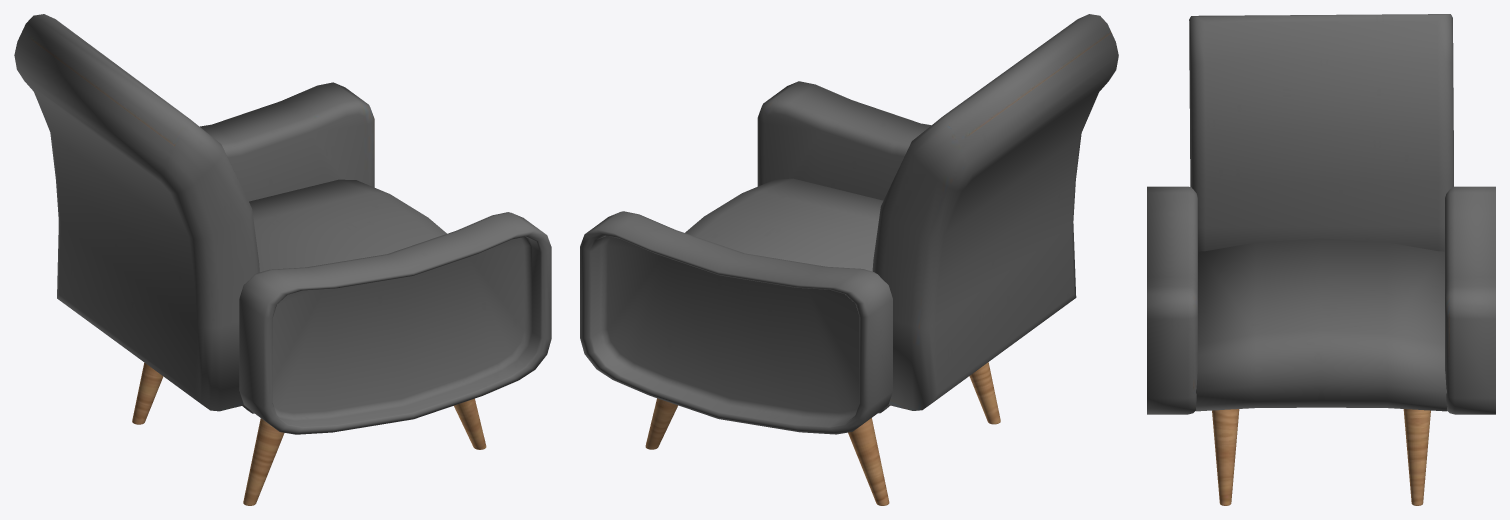
3 renders of one model, left to right at view 1: azimuth 30°, elevation 25°; view 2: azimuth 150°, elevation 25°; view 3: azimuth 270°, elevation 25°, orthographic. The views are drawn at different scales.
Visible parts, largest first — view 1: Chair; view 2: Chair; view 3: Chair.
Part boxes in pixels (x1,y1,x2,y2): Chair: [14, 14, 551, 505]; Chair: [580, 14, 1118, 505]; Chair: [1147, 14, 1495, 505].
Size of the model in its own units: 1380 by 1515 by 1335.
1 material, 1 textured.
